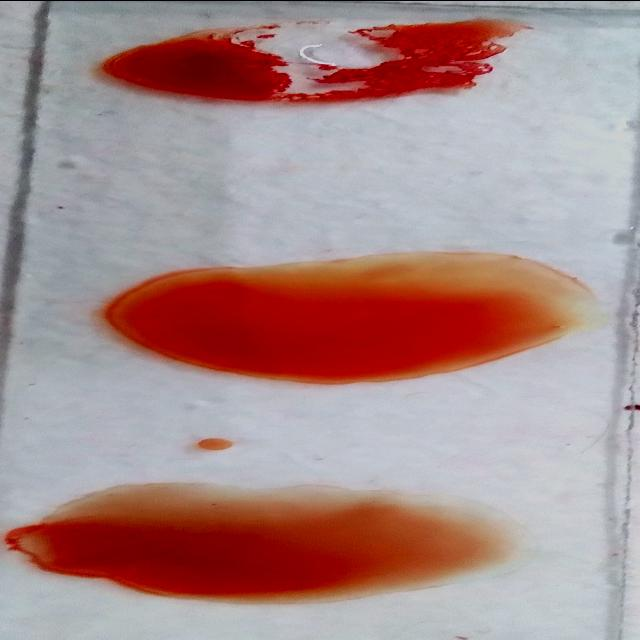D: (82, 11, 528, 102)
